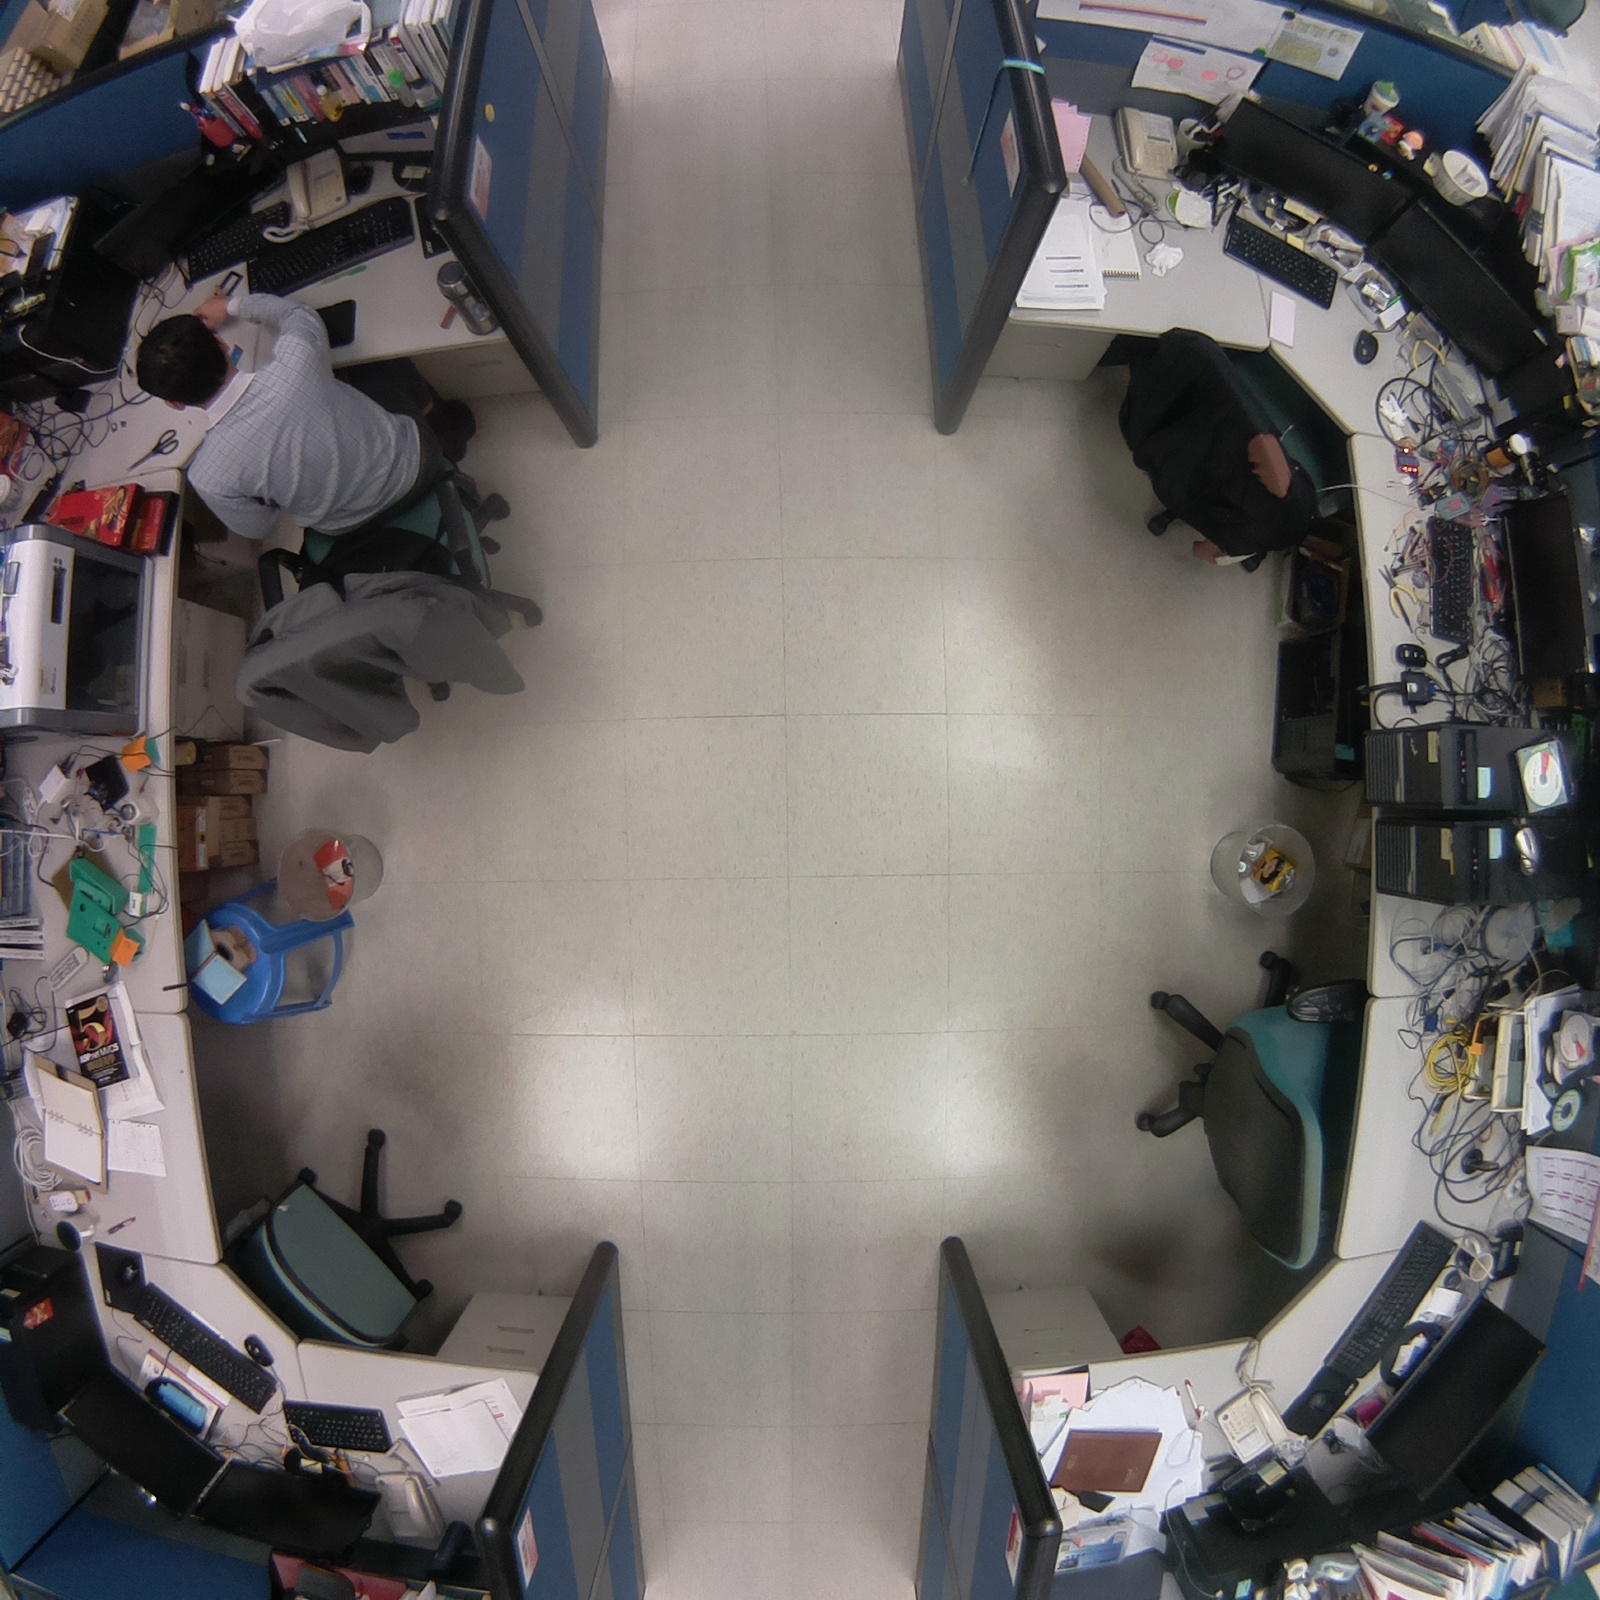chair: (1129, 924, 1363, 1283), (206, 1099, 481, 1370), (1101, 304, 1355, 583)
head: (123, 310, 240, 423)
sitting: (123, 281, 560, 770)
